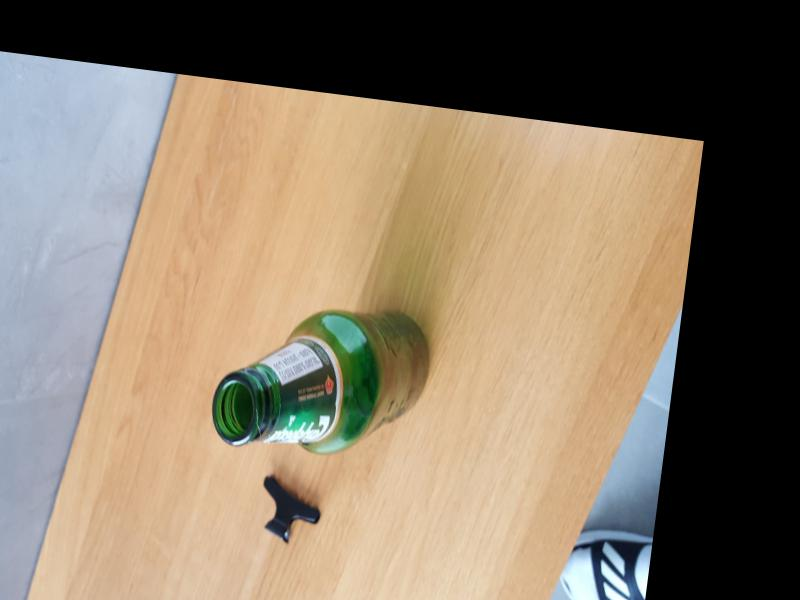Beer: (207, 289, 437, 470)
